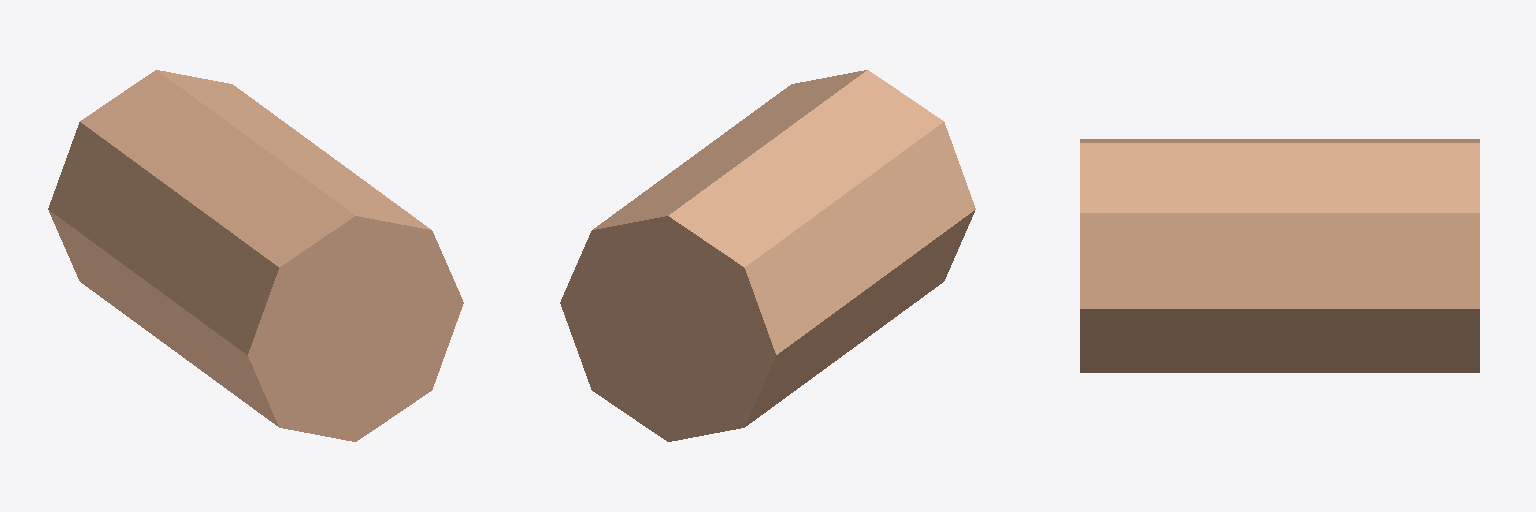
The model's file is Snake_Tail.obj.
The picture shows the model from 3 angles: view 1: azimuth 30°, elevation 25°; view 2: azimuth 150°, elevation 25°; view 3: azimuth 270°, elevation 25°; orthographic projection.
Visible parts, largest first — view 1: Cylinder001; view 2: Cylinder001; view 3: Cylinder001.
Part boxes in pixels (x1,y1,x2,y2): Cylinder001: (48,70,463,441); Cylinder001: (560,70,975,441); Cylinder001: (1080,139,1479,372).
Size of the model in its own units: 22.36 by 22.36 by 35.75.